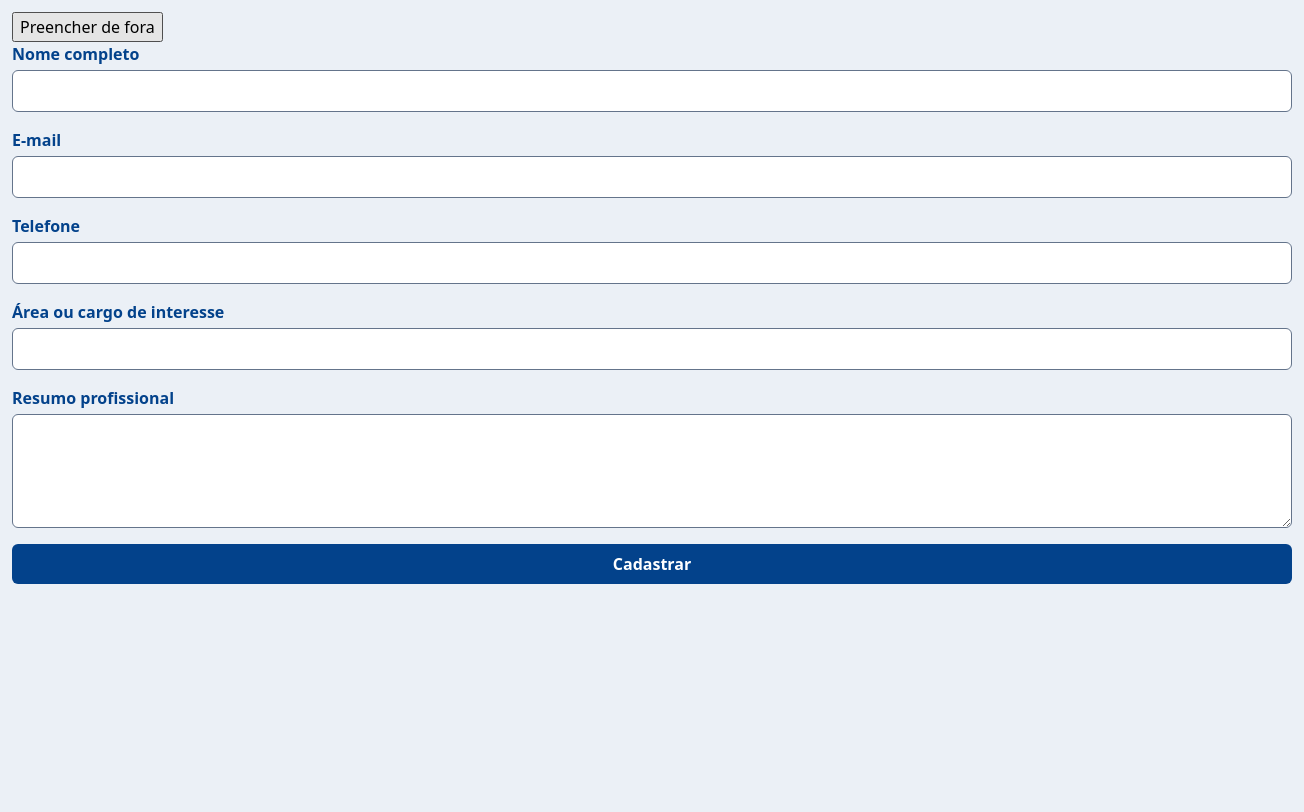
Test case: CandidateForm › enquanto envia, mostra "Enviando" e não deixa cadastrar de novo
The image size is (1304, 812).
In the field labelled "Nome completo": (652, 91) [12,70,1292,112], type "Maria da Silva"
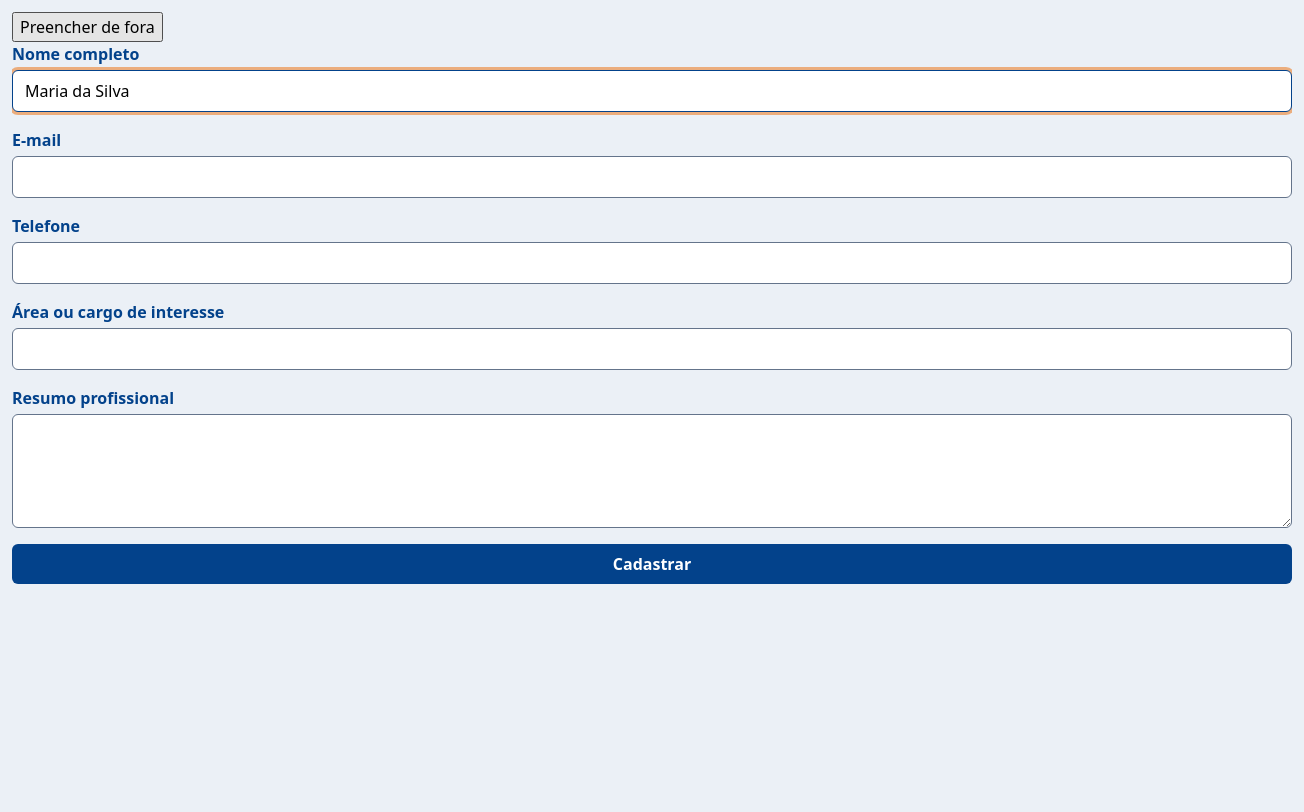
In the field labelled "E-mail": (652, 177) [12,156,1292,198], type "maria@exemplo.com"
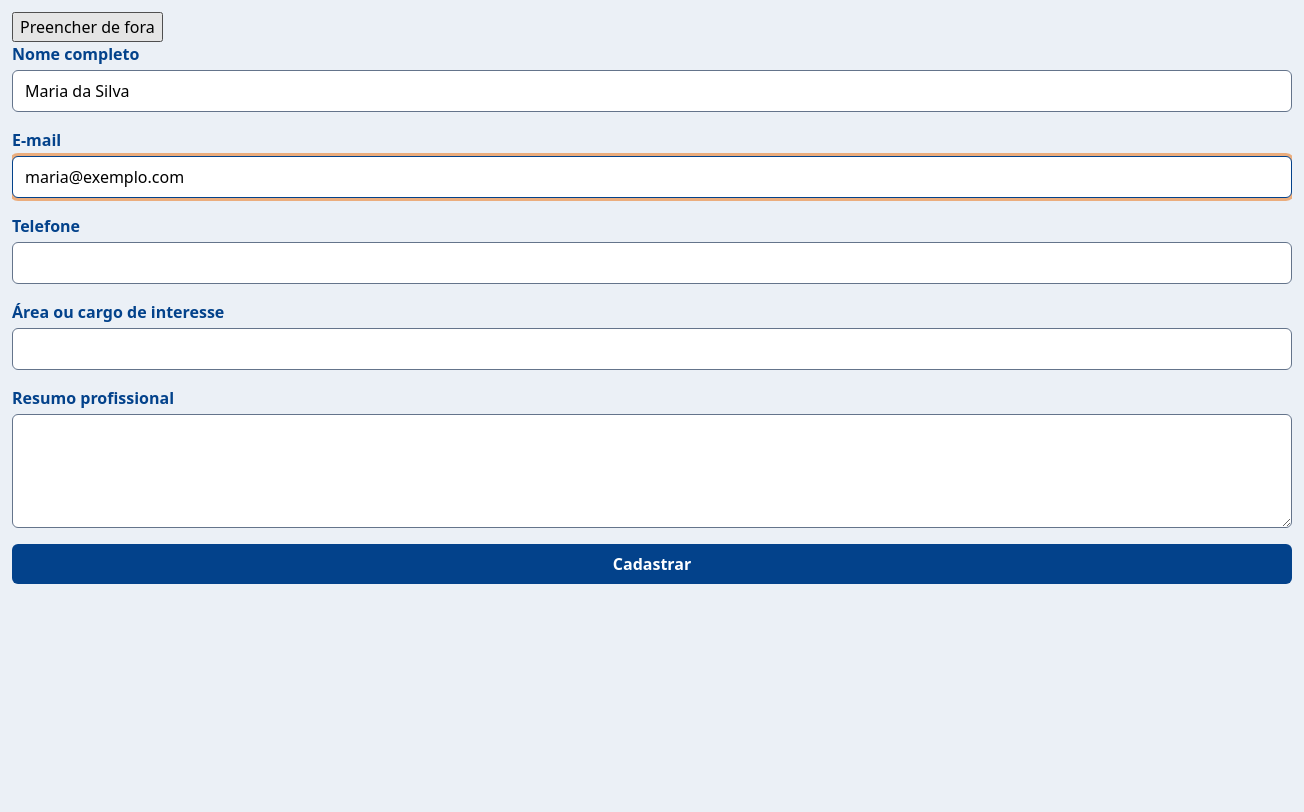
Click the button "Cadastrar": click(652, 564) [12,544,1292,584]
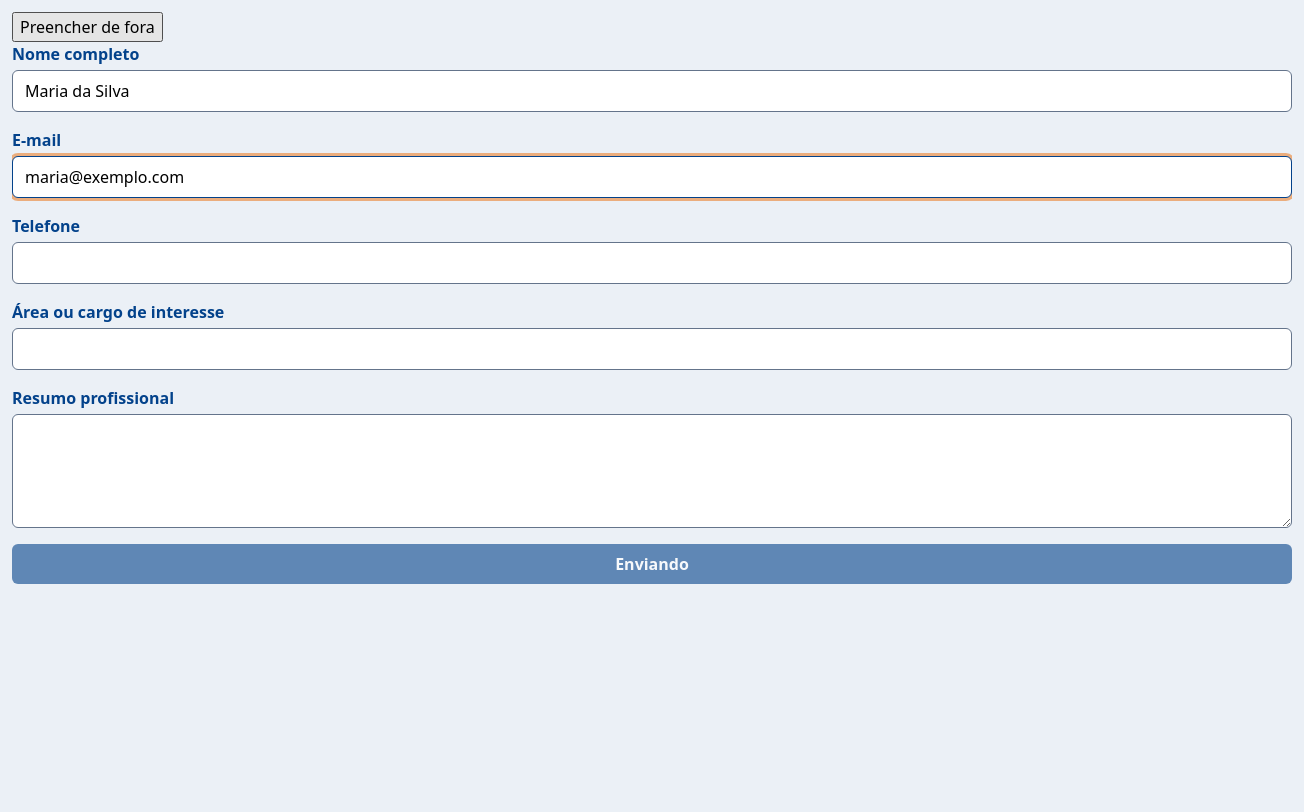
Click the button "Enviando": click(652, 564) [12,544,1292,584]
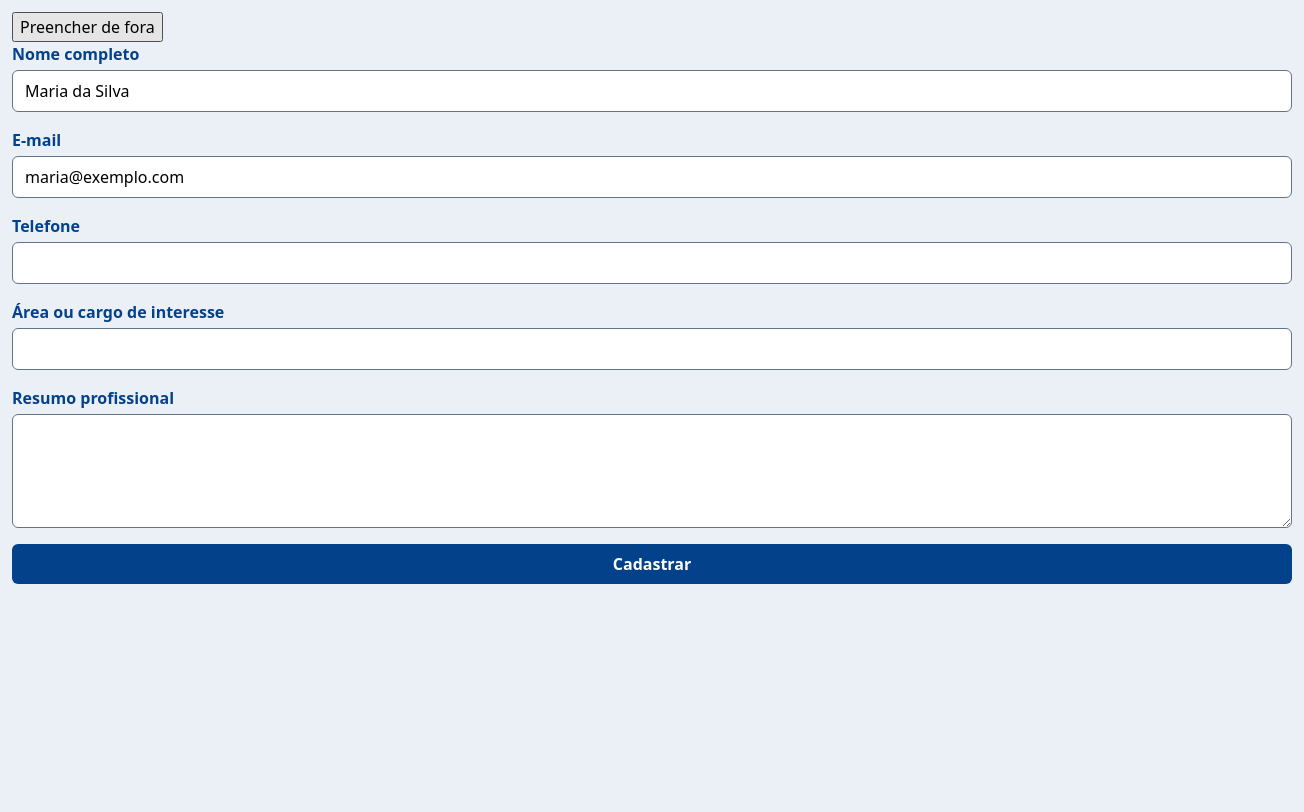
Check: the button "Cadastrar" is enabled, box [12,544,1292,584]
